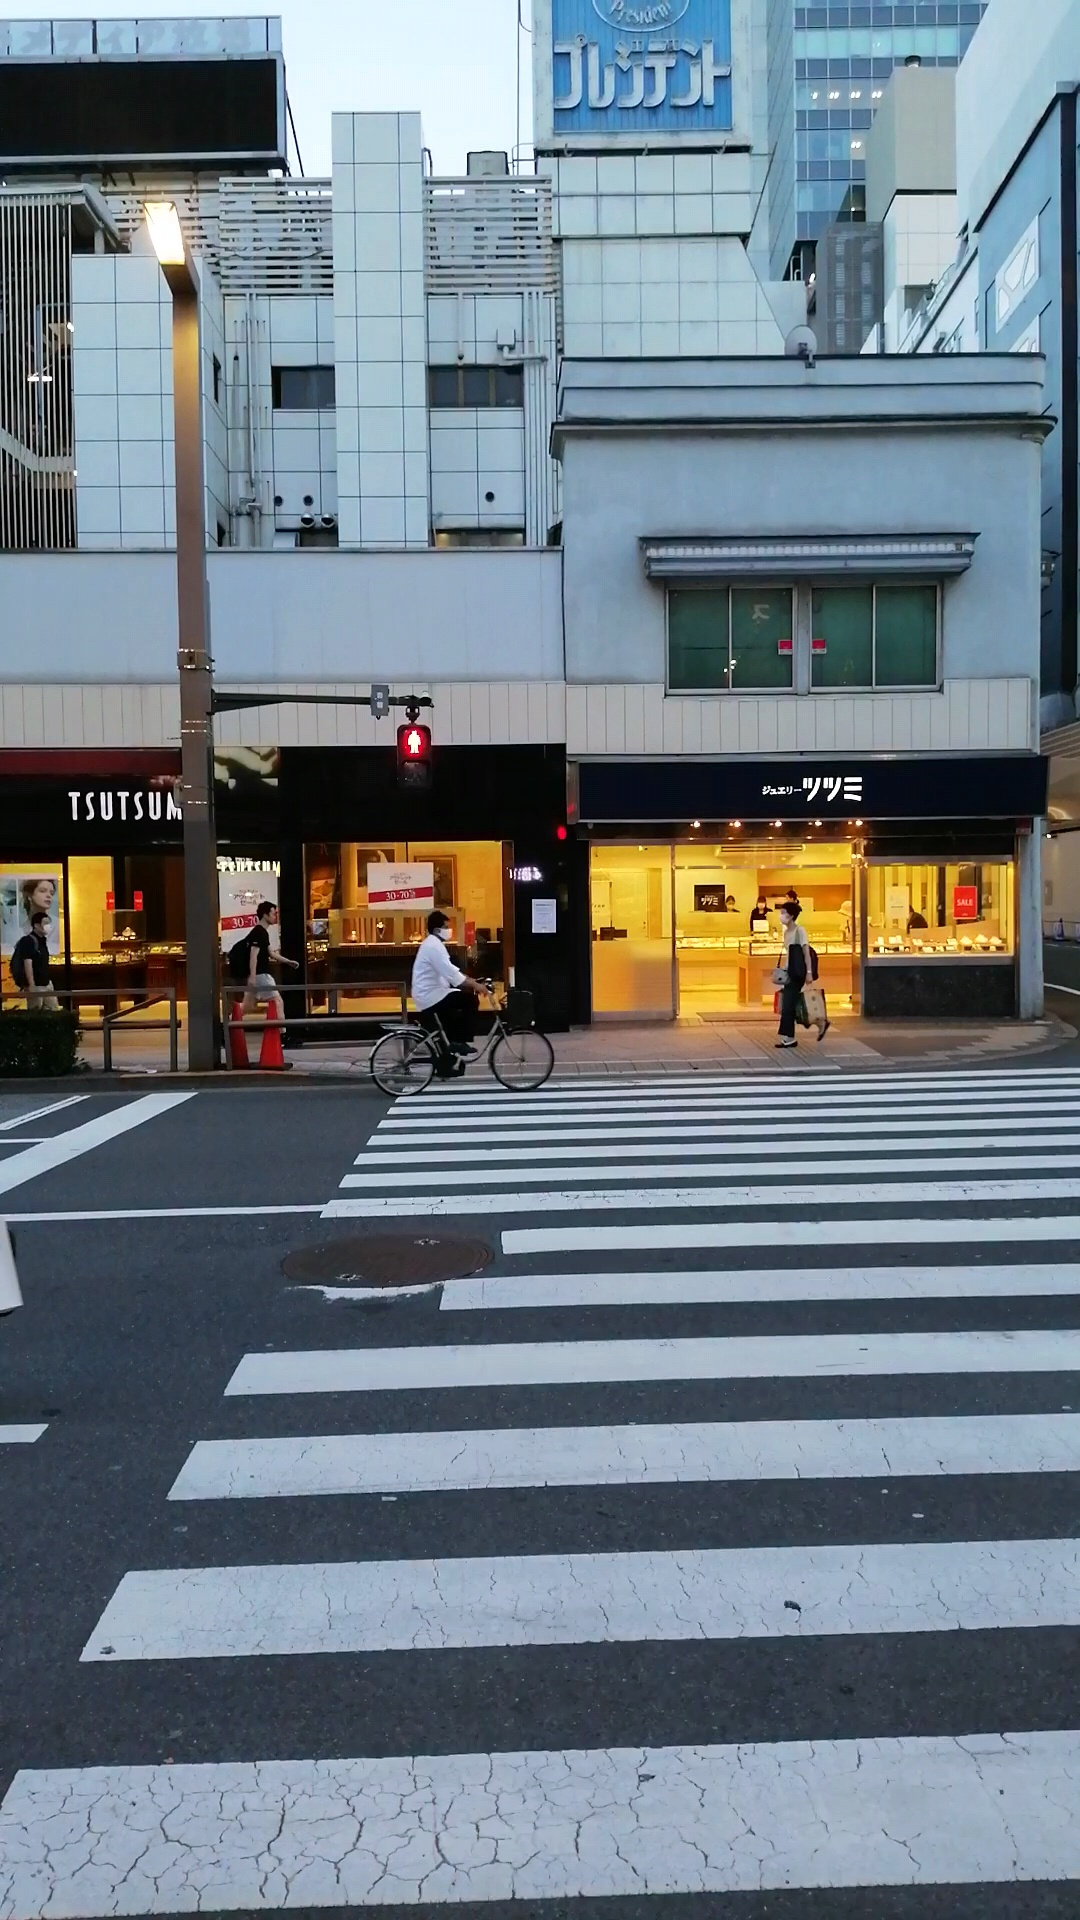red: (396, 723, 431, 789)
